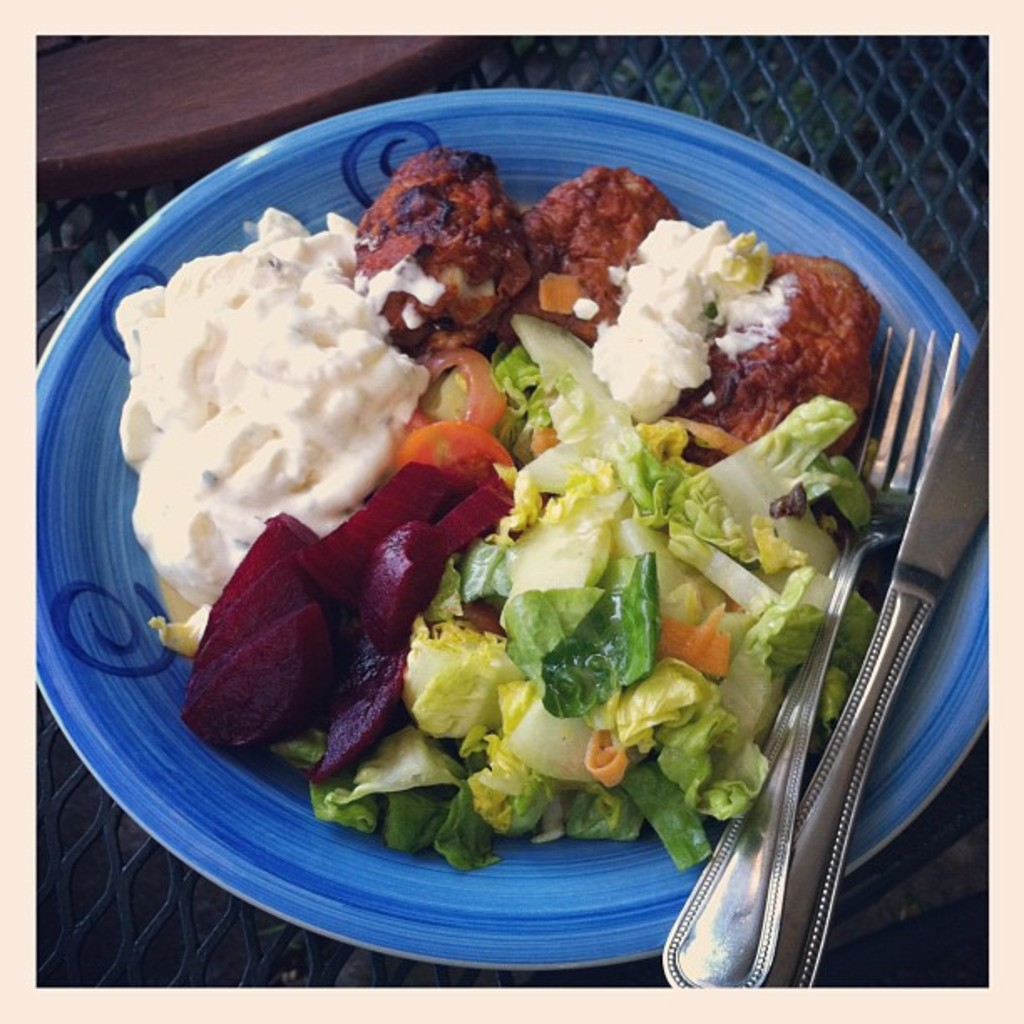salad: (70, 109, 910, 967)
